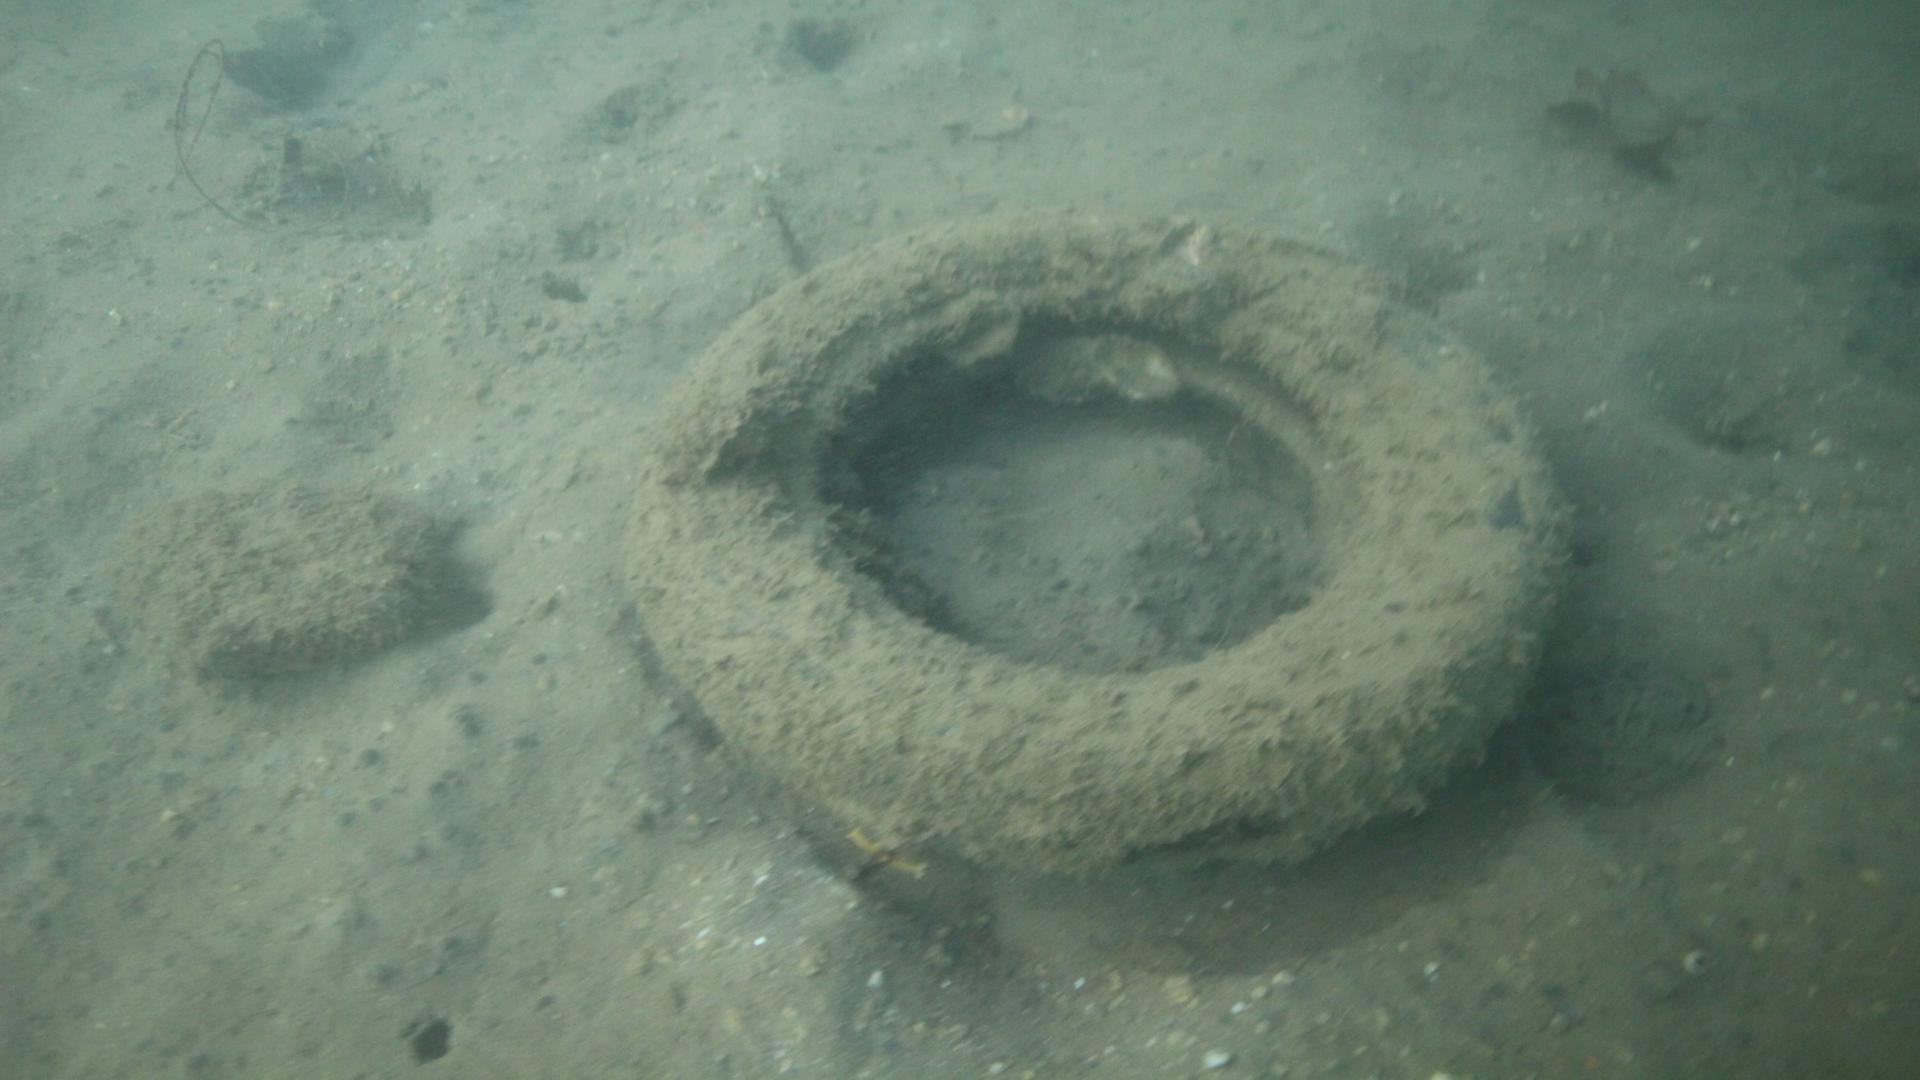tire: (621, 207, 1569, 884)
